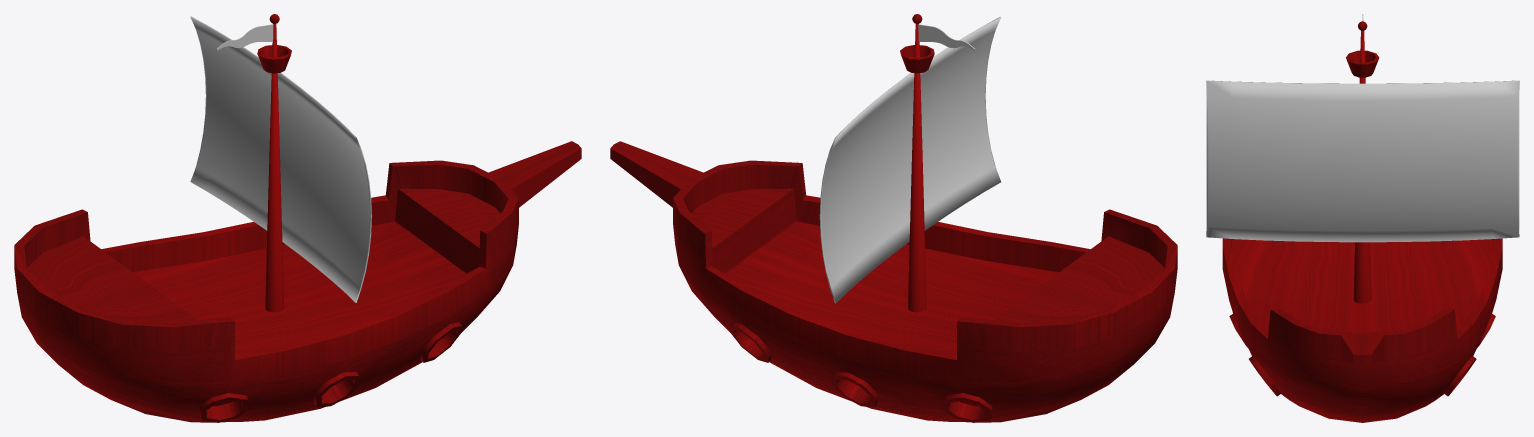
The model's file is Statek wrog.fbx.
The picture shows the model from 3 angles, left to right: view 1: azimuth 30°, elevation 25°; view 2: azimuth 150°, elevation 25°; view 3: azimuth 270°, elevation 25°; orthographic projection. The views are drawn at different scales.
Parts seen in each view (by area): view 1: Cube, Plane, Circle, Cylinder, Plane.001; view 2: Cube, Plane, Circle, Cylinder, Plane.001; view 3: Plane, Cube, Circle, Cylinder.
Part boxes in pixels (x1,y1,x2,y2): Cube: (14, 141, 581, 422); Plane: (190, 16, 371, 302); Circle: (265, 14, 284, 312); Cylinder: (257, 45, 291, 73); Plane.001: (216, 24, 273, 50); Cube: (610, 141, 1177, 422); Plane: (819, 17, 1001, 303); Circle: (907, 14, 926, 312); Cylinder: (900, 45, 934, 73); Plane.001: (918, 24, 975, 50); Plane: (1206, 80, 1519, 242); Cube: (1222, 238, 1502, 422); Circle: (1353, 21, 1371, 303); Cylinder: (1346, 50, 1379, 77).
Bounding box in the file's own units: 492 × 337 × 262.
